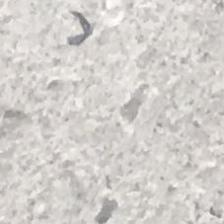Non_Crack: (30, 29, 224, 224)
